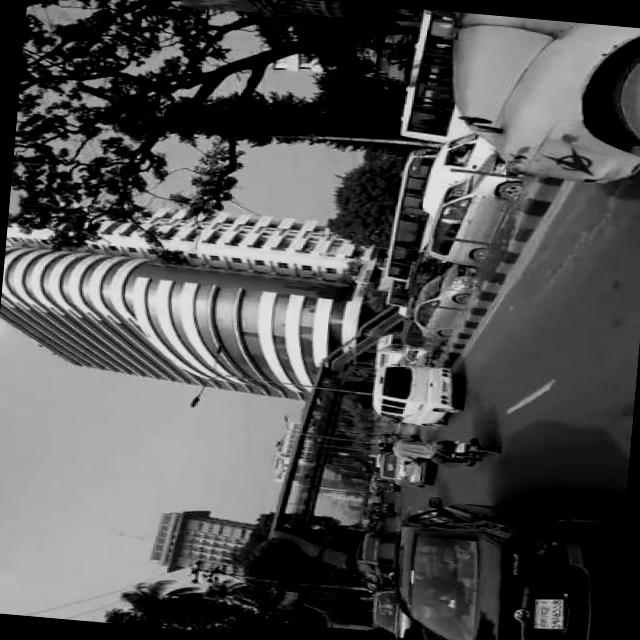bus: (396, 9, 464, 144), (378, 146, 434, 284)
car: (382, 496, 620, 640), (422, 150, 520, 272), (406, 262, 470, 344), (366, 586, 413, 640), (374, 450, 427, 490)
motorcycle: (398, 430, 495, 472), (358, 530, 398, 568), (398, 321, 440, 350), (368, 478, 394, 493), (364, 500, 388, 512), (376, 510, 394, 518)
truck: (441, 12, 640, 189), (418, 129, 492, 219), (366, 362, 454, 430)
